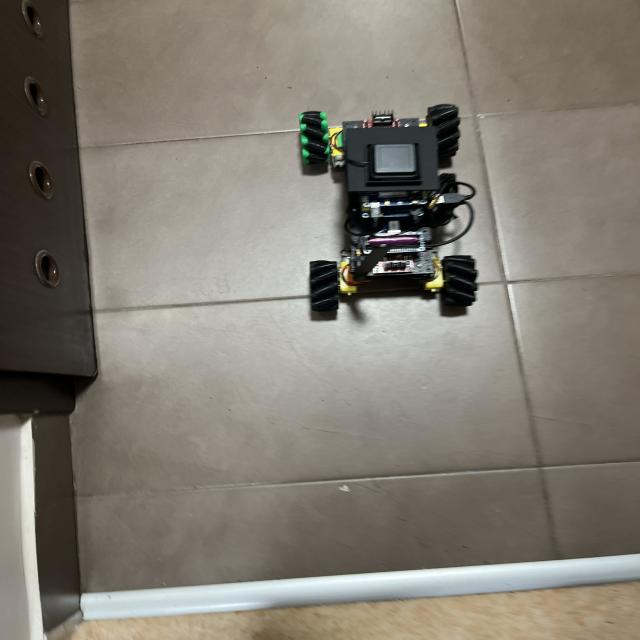robot: (299, 104, 478, 312)
